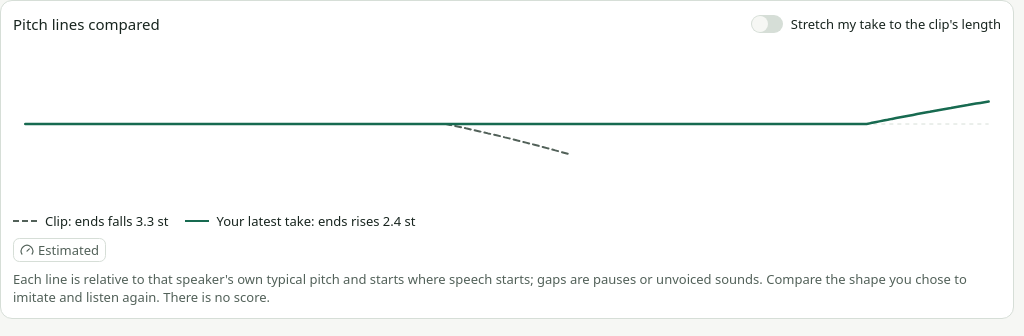
Test case: draws the clip and the take, describes both endings in words and never scores
Expected: the text "Clip: ends falls 3.3 st" is shown, [13, 212, 168, 230]
Expected: the text "Your latest take: ends rises 2.4 st" is shown, [184, 212, 416, 230]
What coordinates should you click on to do the following:
click the switch named "Stretch my take to the clip's length"
I would click on:
 (767, 24)
Its box is [751, 15, 783, 33].
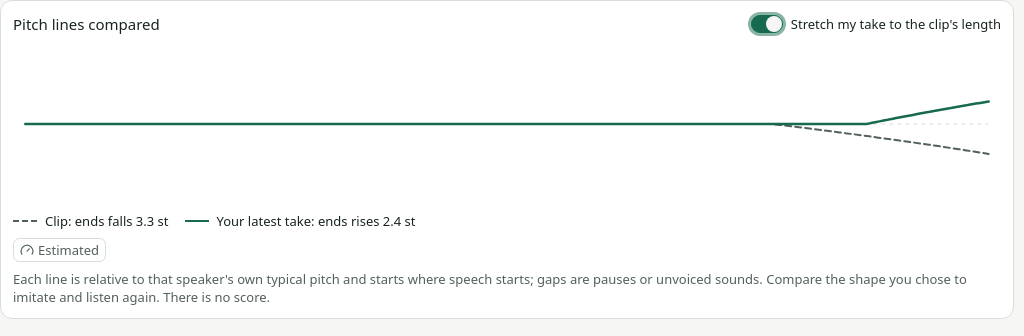
Now the switch named "Stretch my take to the clip's length" is checked, box [751, 15, 783, 33]
